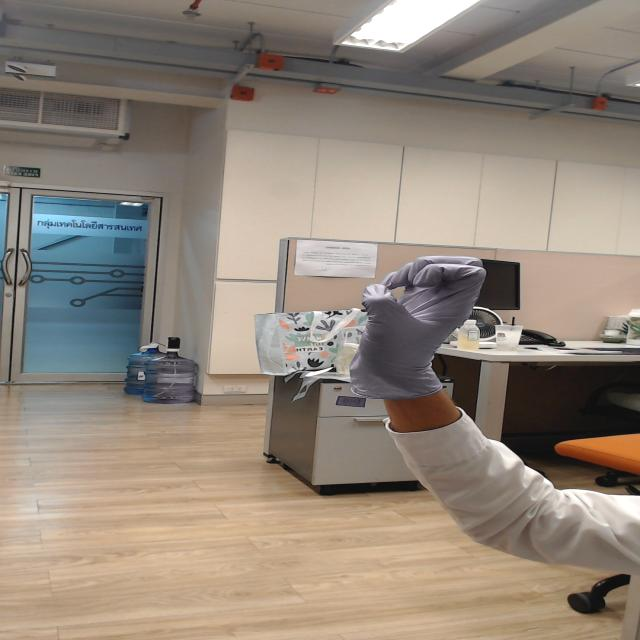glove: (304, 250, 520, 377)
